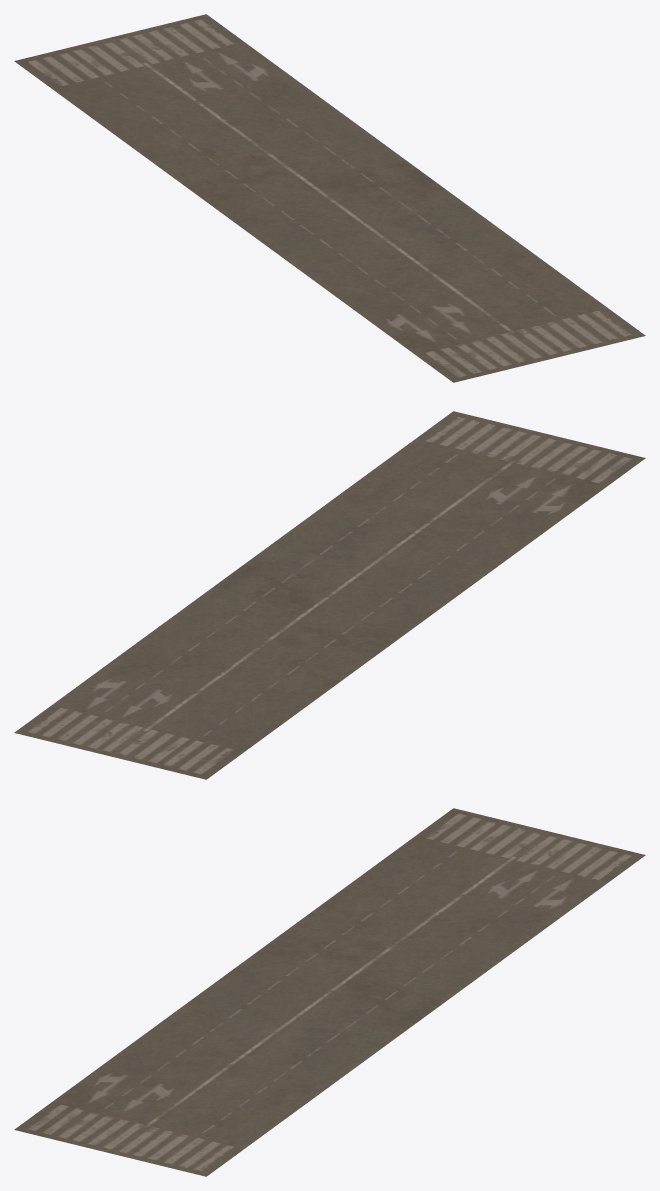
File: map_L1.glb
3 renders of one model, top to bottom at view 1: azimuth 30°, elevation 25°; view 2: azimuth 150°, elevation 25°; view 3: azimuth 330°, elevation 25°, orthographic.
Parts seen in each view (by area): view 1: Object153; view 2: Object153; view 3: Object153.
Part boxes in pixels (x1,y1,x2,y2): Object153: (14,14,645,382); Object153: (14,411,645,779); Object153: (14,808,645,1176).
Size of the model in its own units: 11.93 by 0 by 47.18.
1 material, 1 textured.
